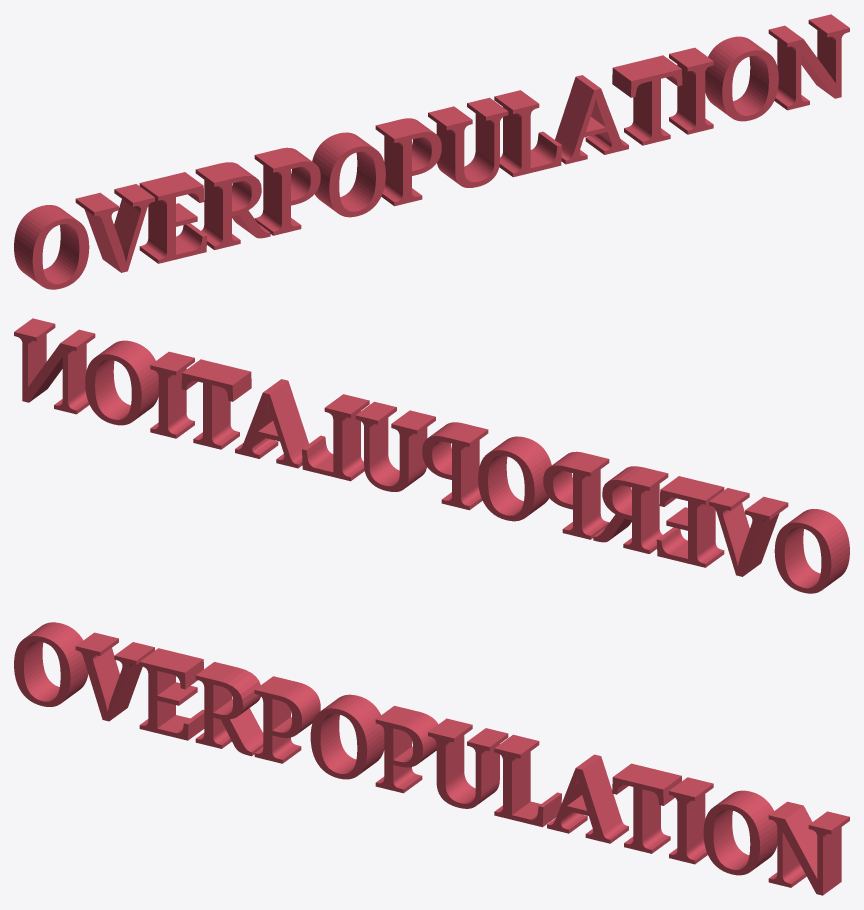
The model's file is Overpopulation.glb.
The picture shows the model from 3 angles, top to bottom: view 1: azimuth 30°, elevation 25°; view 2: azimuth 150°, elevation 25°; view 3: azimuth 330°, elevation 25°; orthographic projection.
Visible parts, largest first — view 1: Mesh_Mesh_head_geo.001_lambert2SG.001; view 2: Mesh_Mesh_head_geo.001_lambert2SG.001; view 3: Mesh_Mesh_head_geo.001_lambert2SG.001.
Part boxes in pixels (left/top/right/bottom): Mesh_Mesh_head_geo.001_lambert2SG.001: left=14, top=14, right=849, bottom=289; Mesh_Mesh_head_geo.001_lambert2SG.001: left=14, top=318, right=849, bottom=593; Mesh_Mesh_head_geo.001_lambert2SG.001: left=14, top=622, right=849, bottom=895.
Bounding box in the file's own units: 253 × 20.42 × 10.
